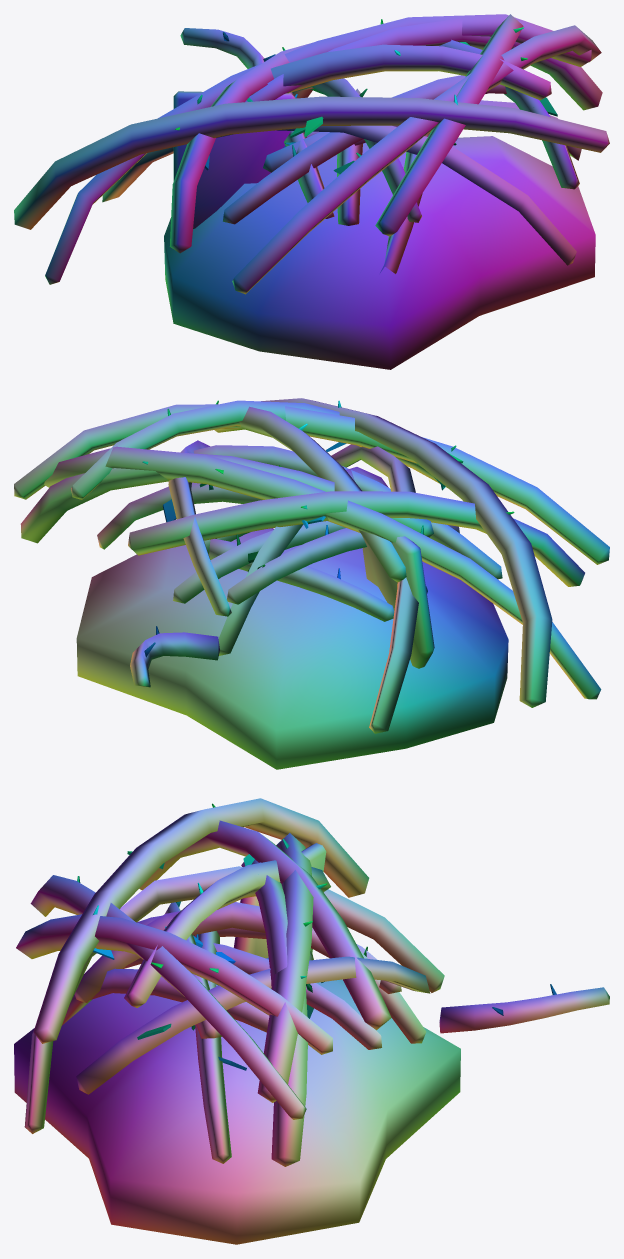
The model's file is SM_Foliage_March_Briar_B.fbx.
3 views of the same model, one above another, from view 1: azimuth 30°, elevation 25°; view 2: azimuth 150°, elevation 25°; view 3: azimuth 270°, elevation 25° (orthographic). The views are drawn at different scales.
Visible parts, largest first — view 1: SM_Foliage_March_Briar_B; view 2: SM_Foliage_March_Briar_B; view 3: SM_Foliage_March_Briar_B.
Boxes of the visible parts, x1,y1,x2,y2 form: SM_Foliage_March_Briar_B: (14,14,609,369); SM_Foliage_March_Briar_B: (14,398,609,769); SM_Foliage_March_Briar_B: (14,798,609,1244).
Size of the model in its own units: 1.22 by 0.4865 by 1.01.
